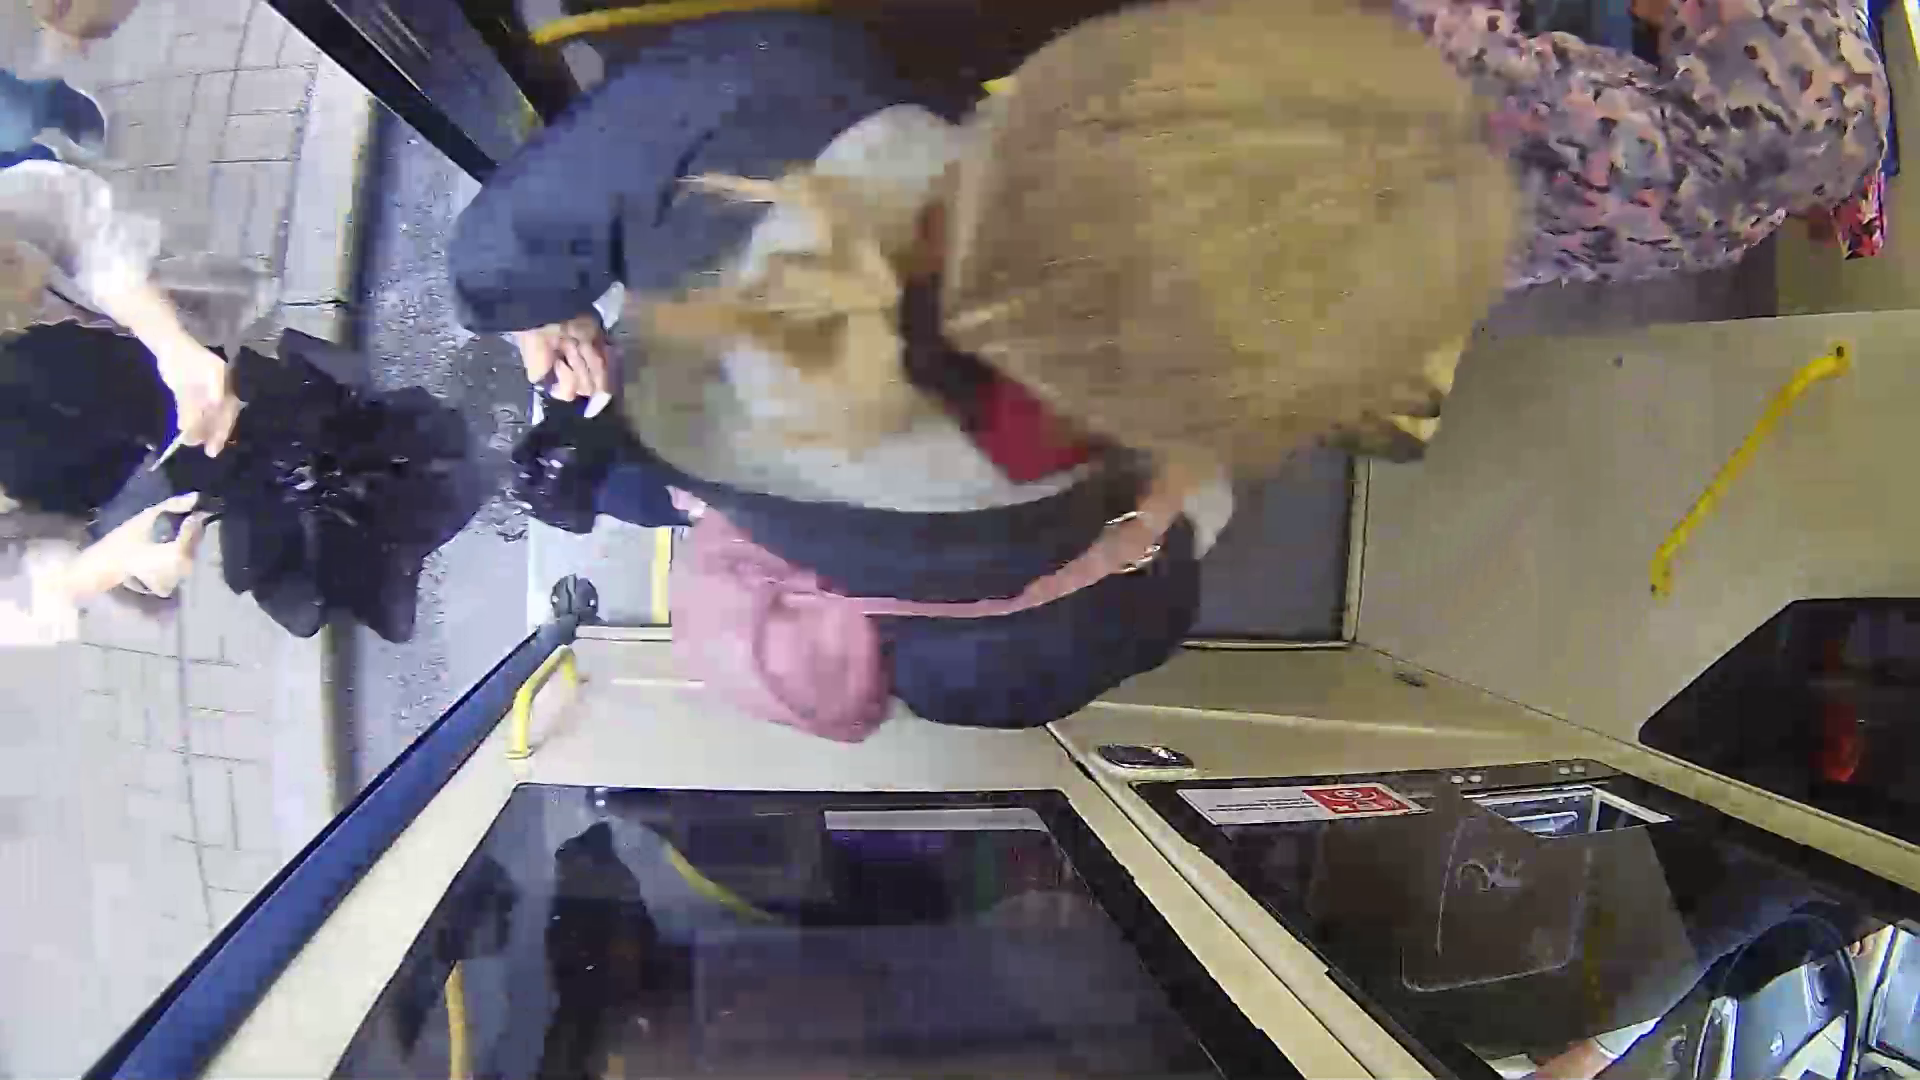person: (478, 69, 1614, 745)
